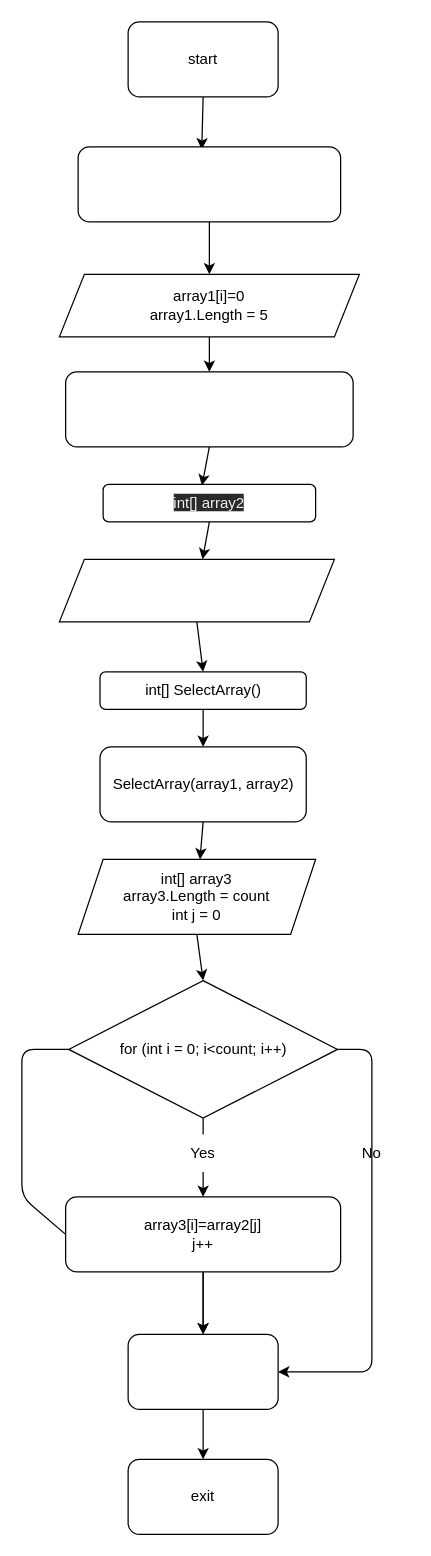
Image size: 431x1556. Some labels were removed from this diagram. Here are the shapes that lost their labels. From the top down, the centre of each, then its label:
point (209, 184): int[] RandomNumber() int[] PrintArray() int[] array1
point (208, 409): RandomNumber(array1), PrintArray(array1)
point (196, 590): array2[i]=0 array2.Length = array1.Length int count = 0
point (202, 1371): PrintArray(array3)
